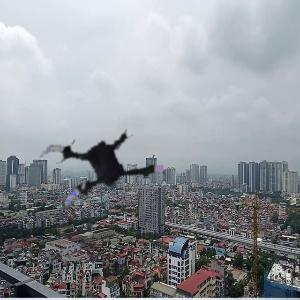drone: (35, 110, 166, 241)
